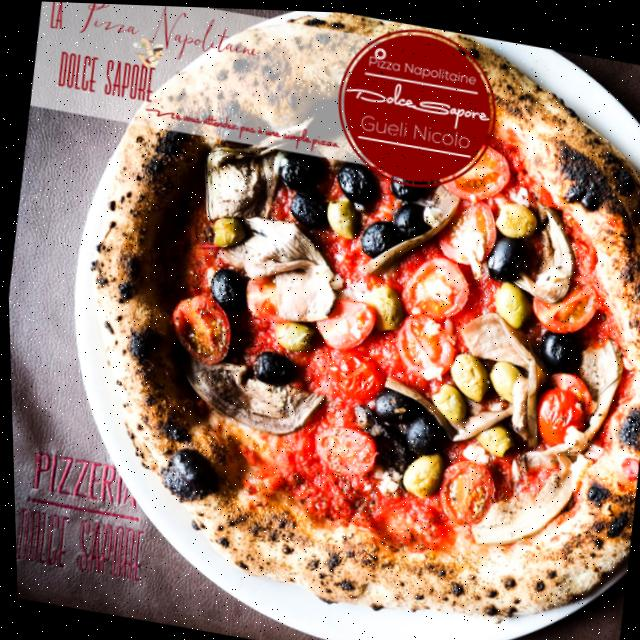black_olives: (344, 405, 410, 472), (483, 229, 538, 281), (249, 347, 303, 389), (276, 151, 331, 192), (335, 159, 381, 205), (358, 215, 402, 260), (287, 185, 331, 230), (536, 326, 582, 369), (384, 169, 441, 203), (207, 265, 248, 309), (390, 196, 436, 235), (367, 384, 418, 419), (400, 411, 441, 453)
green_olives: (395, 444, 446, 500), (444, 346, 490, 400), (486, 274, 530, 327), (490, 197, 540, 240), (362, 281, 403, 331), (321, 192, 363, 240), (424, 380, 469, 424), (483, 354, 522, 402), (472, 419, 513, 457), (271, 315, 312, 353), (209, 210, 243, 251)
mushrooms: (445, 305, 552, 443), (467, 435, 593, 550), (167, 352, 327, 441), (233, 212, 344, 323), (543, 326, 627, 460), (511, 198, 581, 305), (198, 143, 280, 232)
pizza: (38, 1, 640, 640)
tomatoes: (428, 187, 502, 266), (162, 289, 237, 366), (436, 133, 516, 204), (526, 264, 601, 339), (398, 248, 472, 321), (387, 310, 457, 384), (432, 452, 499, 527), (308, 420, 379, 480), (529, 379, 586, 453), (310, 290, 376, 353), (329, 346, 383, 403), (545, 363, 595, 411), (240, 275, 281, 323)
